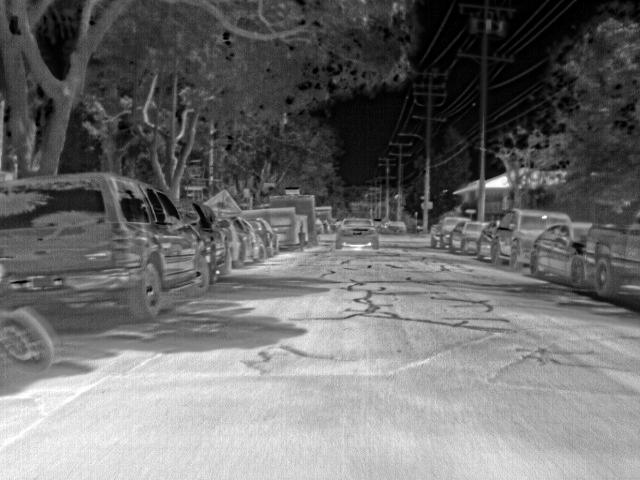car: (1, 170, 210, 317), (491, 207, 574, 269), (582, 210, 640, 297), (172, 202, 233, 284), (531, 222, 593, 289), (219, 215, 266, 267), (431, 214, 474, 248), (244, 216, 280, 256), (451, 220, 490, 255), (337, 218, 380, 248), (472, 218, 498, 260), (384, 218, 408, 236), (312, 216, 326, 234)
